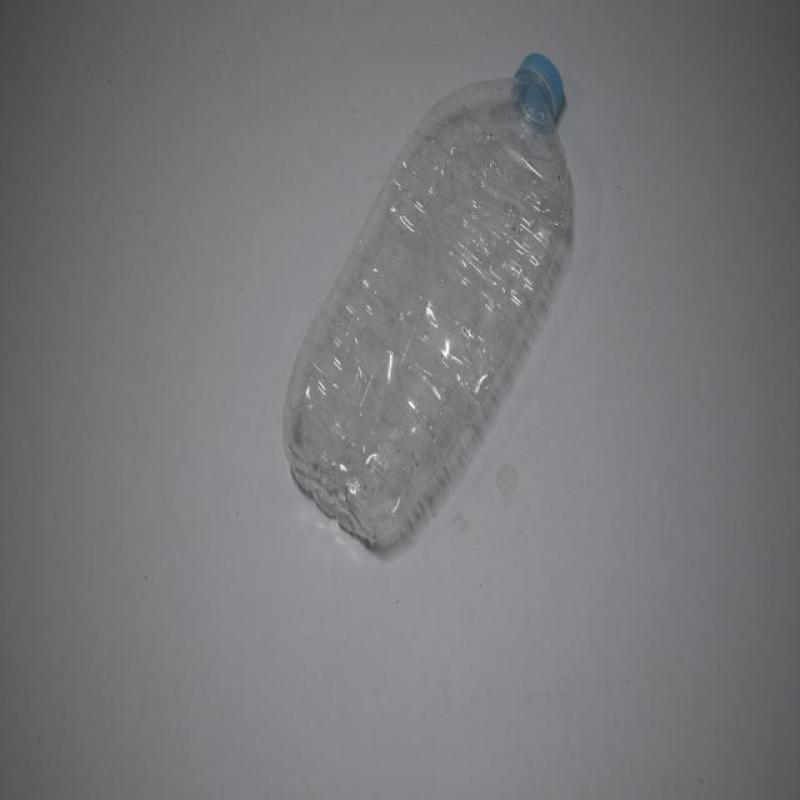botella: (281, 55, 574, 556)
